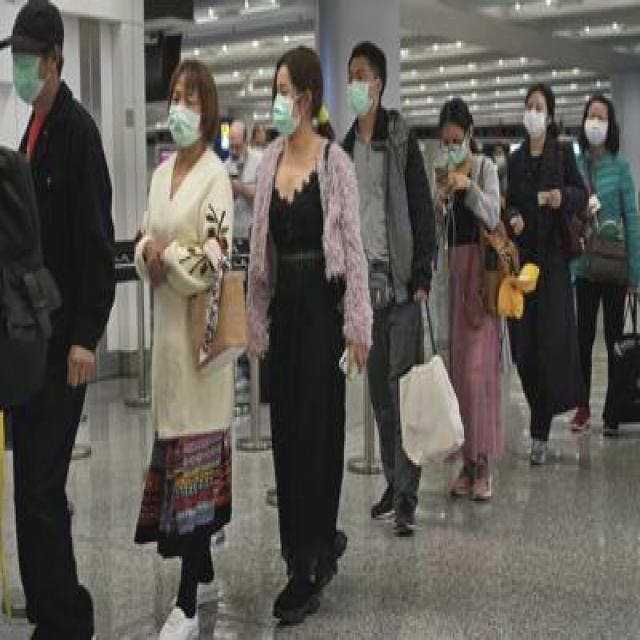hairnet: (227, 138, 245, 166)
